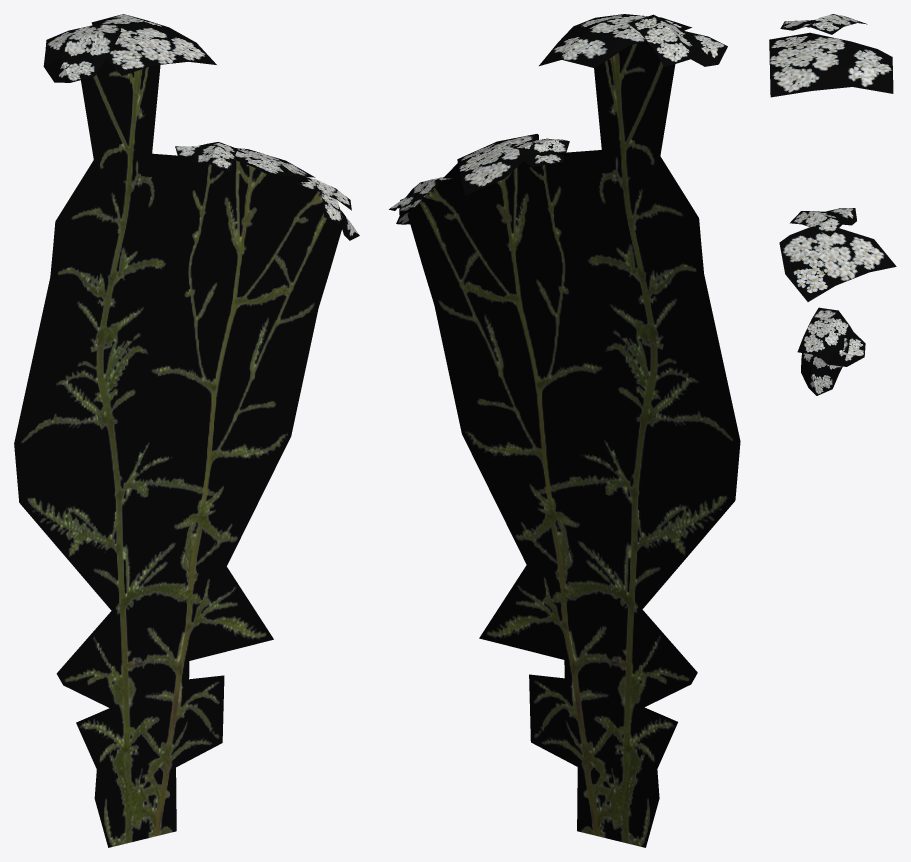
The model's file is 01_Achillea_millefolium_mid_001.fbx.
3 renders of one model, left to right at view 1: azimuth 30°, elevation 25°; view 2: azimuth 150°, elevation 25°; view 3: azimuth 270°, elevation 25°, orthographic. The views are drawn at different scales.
Visible parts, largest first — view 1: 01_Achillea_millefolium_mid.001; view 2: 01_Achillea_millefolium_mid.001; view 3: 01_Achillea_millefolium_mid.001.
Part boxes in pixels (<box>): 01_Achillea_millefolium_mid.001: <box>14,14,359,847</box>; 01_Achillea_millefolium_mid.001: <box>389,14,740,847</box>; 01_Achillea_millefolium_mid.001: <box>769,14,896,395</box>.
Size of the model in its own units: 0.2277 by 0.5246 by 0.0768.
